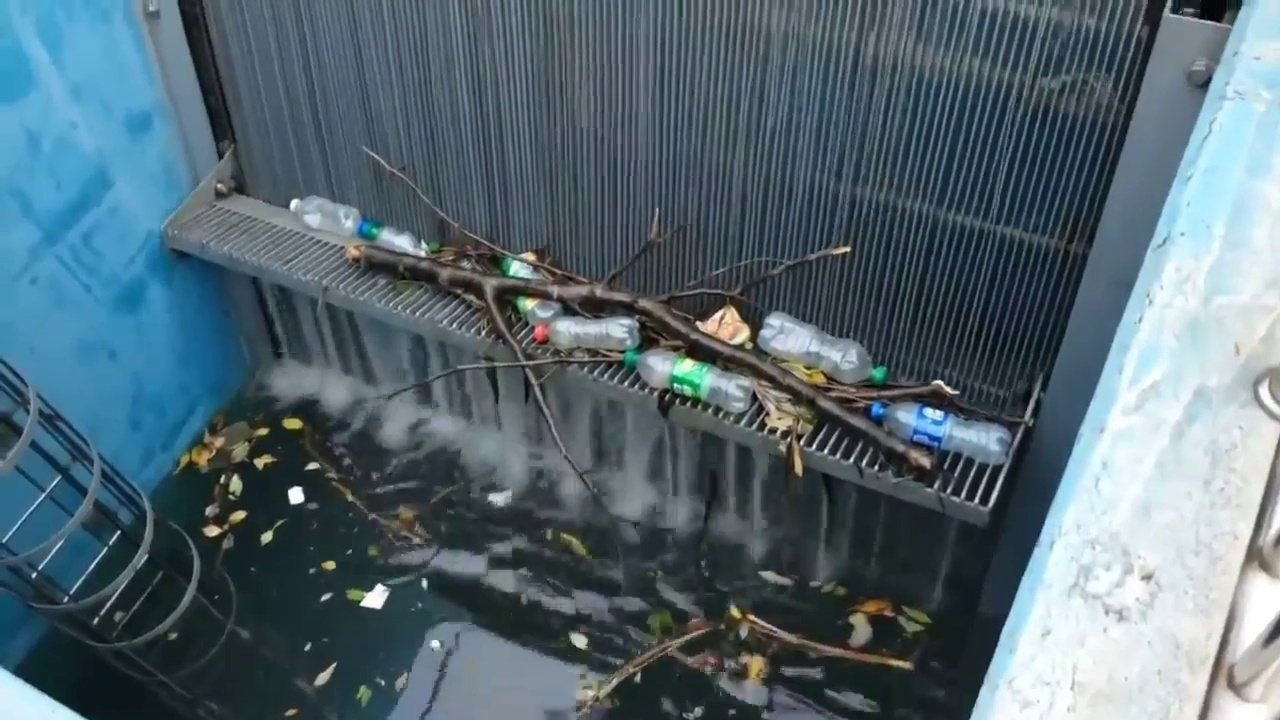debris: (289, 197, 1012, 468), (578, 626, 715, 713), (746, 614, 913, 669), (712, 607, 821, 679), (725, 608, 864, 660), (753, 380, 815, 435), (189, 422, 252, 470), (695, 304, 751, 345), (717, 674, 769, 708), (824, 689, 880, 712), (547, 529, 590, 557), (779, 361, 828, 385), (216, 421, 254, 447), (784, 433, 804, 478), (847, 612, 872, 648), (687, 651, 723, 673), (646, 609, 674, 637), (359, 584, 389, 609), (852, 599, 894, 615), (742, 654, 767, 680), (396, 504, 417, 534), (260, 519, 284, 545), (576, 677, 599, 704), (778, 666, 824, 679), (899, 606, 930, 625), (896, 614, 925, 634), (188, 446, 213, 469), (759, 570, 794, 586), (313, 662, 335, 687), (929, 379, 959, 397), (486, 489, 513, 507), (230, 442, 250, 463), (252, 453, 276, 469), (660, 696, 679, 716), (227, 473, 242, 498), (820, 582, 846, 596), (356, 684, 371, 706), (685, 617, 710, 630), (287, 486, 304, 505), (569, 632, 588, 649), (393, 672, 409, 692), (201, 524, 224, 537), (345, 588, 366, 602), (281, 417, 303, 430), (209, 412, 224, 431), (228, 510, 247, 525), (727, 603, 743, 620), (175, 452, 189, 471), (210, 413, 224, 431), (203, 503, 219, 518), (737, 623, 750, 639), (218, 473, 230, 490), (221, 534, 233, 550), (832, 585, 848, 597), (366, 544, 380, 557), (112, 610, 125, 623), (320, 560, 336, 570), (253, 427, 269, 437), (821, 582, 835, 593), (304, 461, 320, 470), (808, 581, 823, 590), (430, 639, 441, 651), (319, 592, 332, 602), (284, 708, 298, 717), (374, 677, 386, 687), (304, 501, 318, 509), (420, 578, 429, 590), (632, 672, 641, 683), (303, 642, 312, 652), (166, 632, 177, 640), (308, 568, 316, 574)
